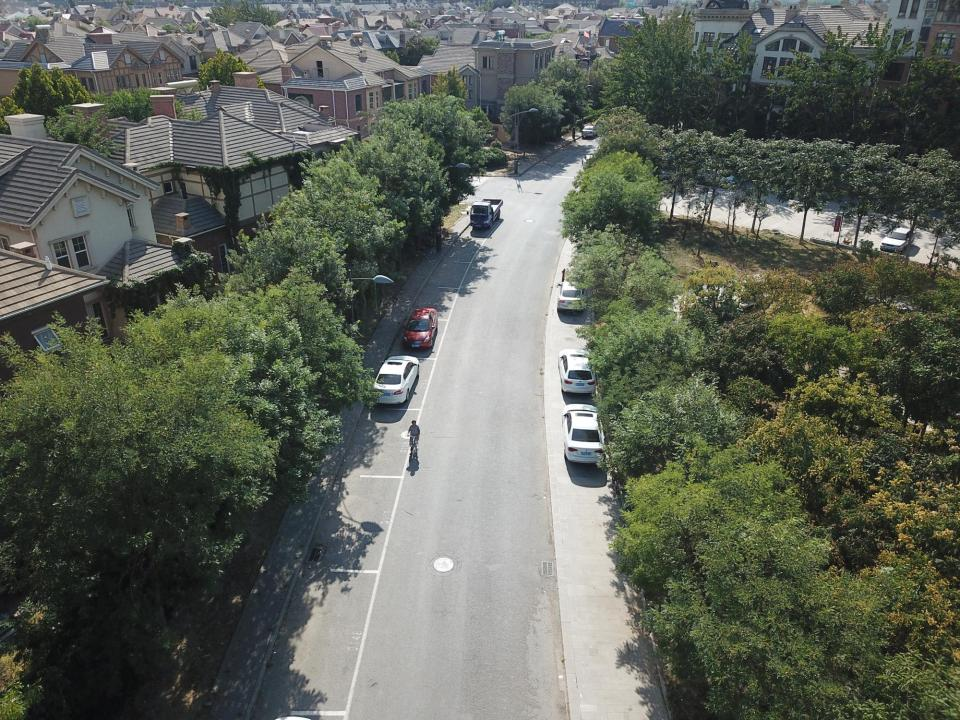car: (561, 404, 607, 463), (373, 356, 419, 404), (403, 307, 437, 348), (880, 227, 916, 253), (581, 125, 603, 139)
truck: (467, 199, 503, 228)
van: (558, 350, 596, 394), (557, 281, 588, 312), (697, 166, 738, 188)
